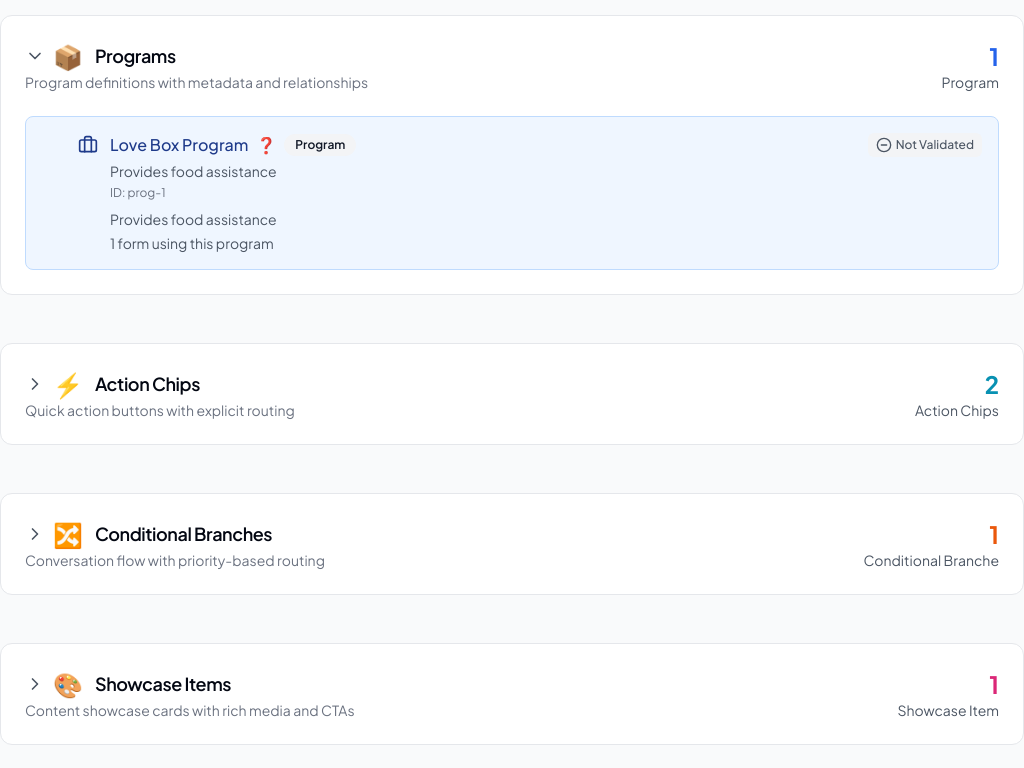
Test: ConversationFlowDiagram › Rich Metadata › should show action chip routing target
This screenshot has width=1024, height=768.
Expand Action Chips section
Click the button named "Expand section" at (54, 384), box [25,368,83,400]
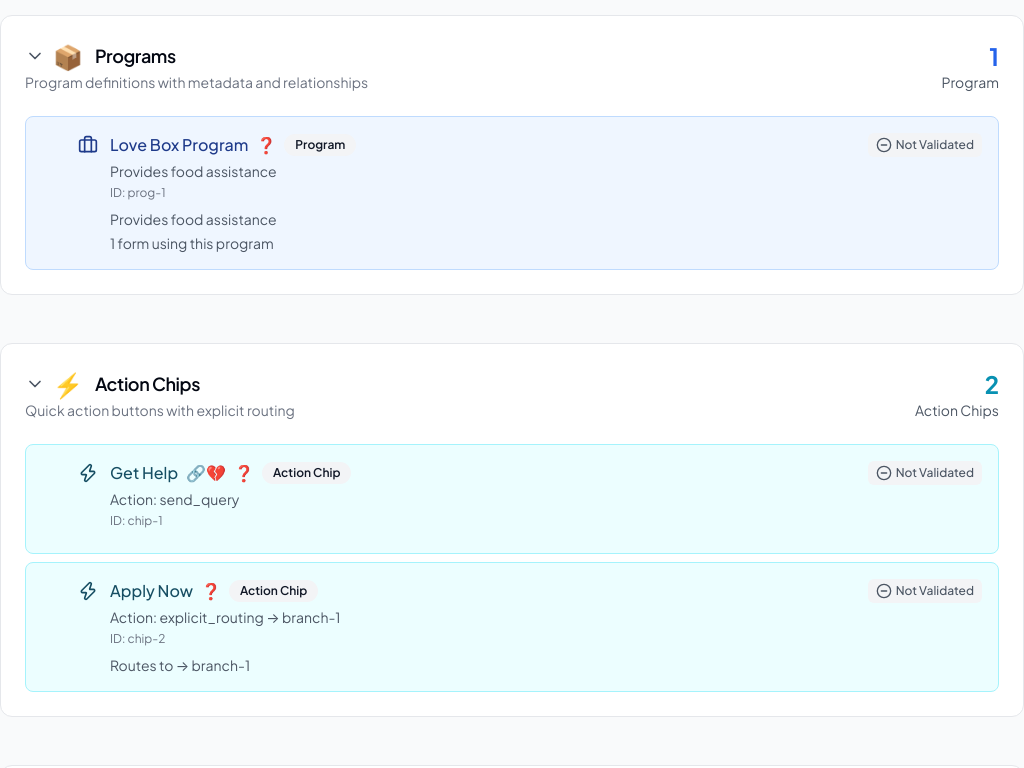
Check: the text "Action: explicit_routing → branch-1" is shown, box [110,608,341,626]
